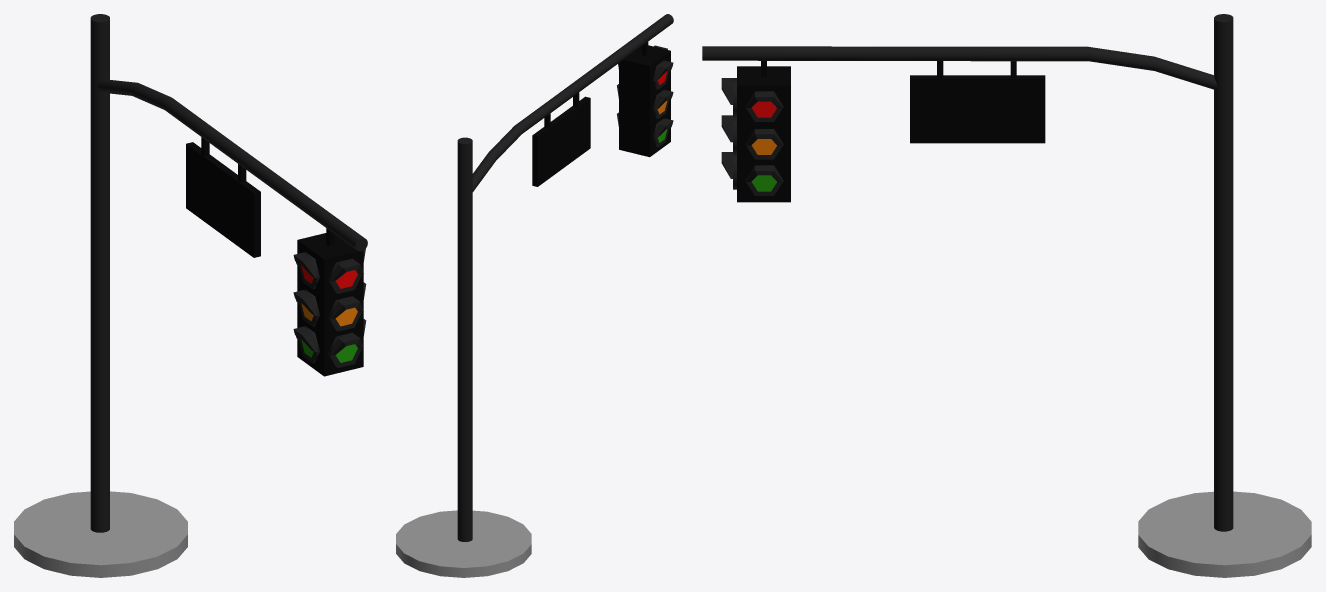
File: StopLight_1370.obj
The picture shows the model from 3 angles, left to right: view 1: azimuth 30°, elevation 25°; view 2: azimuth 150°, elevation 25°; view 3: azimuth 270°, elevation 25°; orthographic projection. The views are drawn at different scales.
Parts seen in each view (by area): view 1: Cylinder012; view 2: Cylinder012; view 3: Cylinder012.
Boxes of the visible parts, left/top/right/bottom form: Cylinder012: left=14, top=14, right=367, bottom=577; Cylinder012: left=396, top=14, right=673, bottom=577; Cylinder012: left=702, top=14, right=1311, bottom=577.
Size of the model in its own units: 35.58 by 116 by 123.
